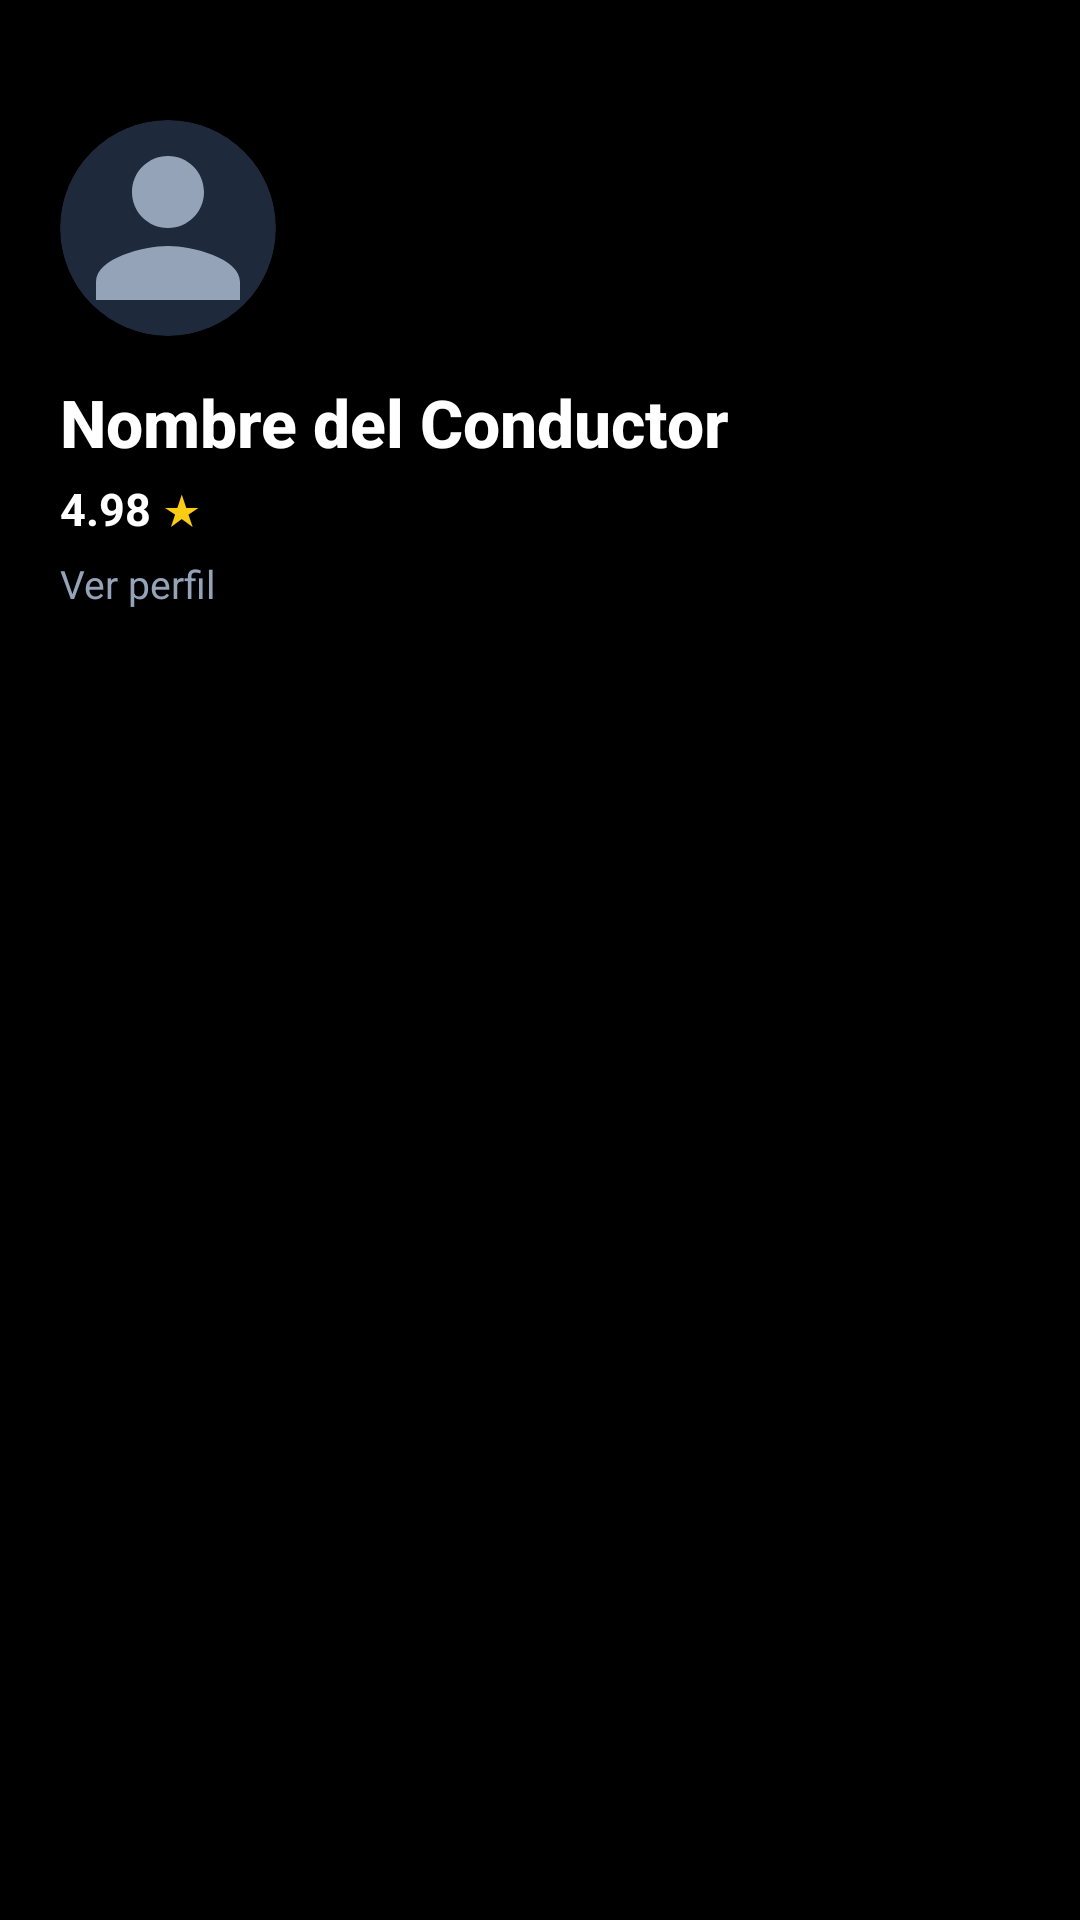

Where to tap for icons on this 1080px x 1920px app screen, as (x,y):
Foto de perfil: (168,228)
